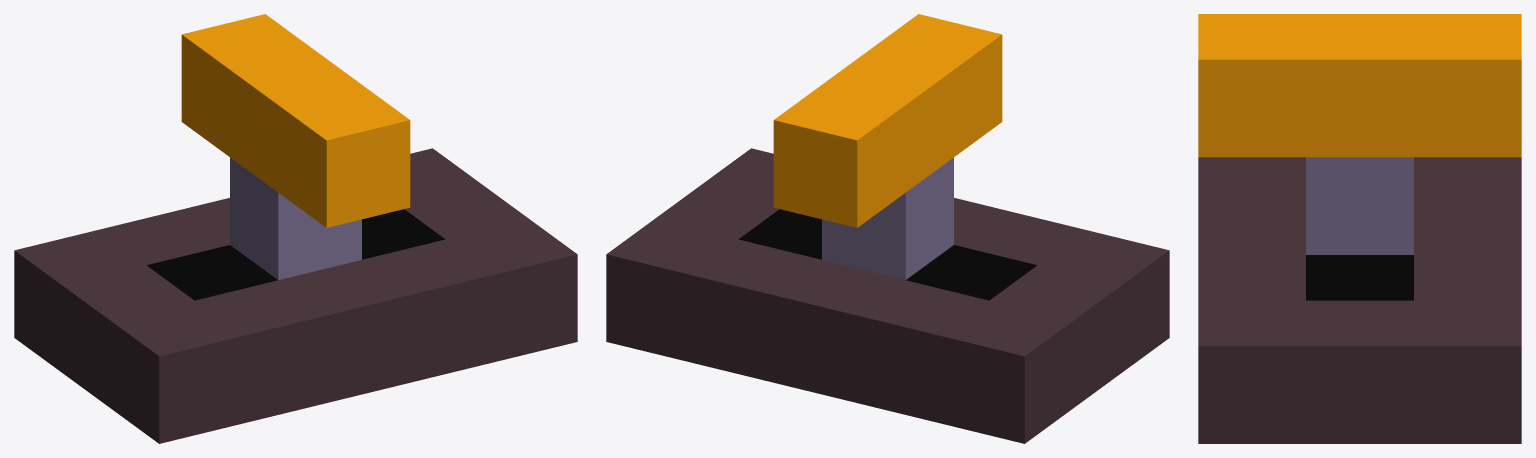
Rendered from lever_b_a_yellow_off.obj.
3 views of the same model, side by side, from view 1: azimuth 30°, elevation 25°; view 2: azimuth 150°, elevation 25°; view 3: azimuth 270°, elevation 25° (orthographic). The views are drawn at different scales.
Bounding box in the file's own units: 0.5 × 0.3 × 0.3.
Materials: 1 (1 with a texture image).
